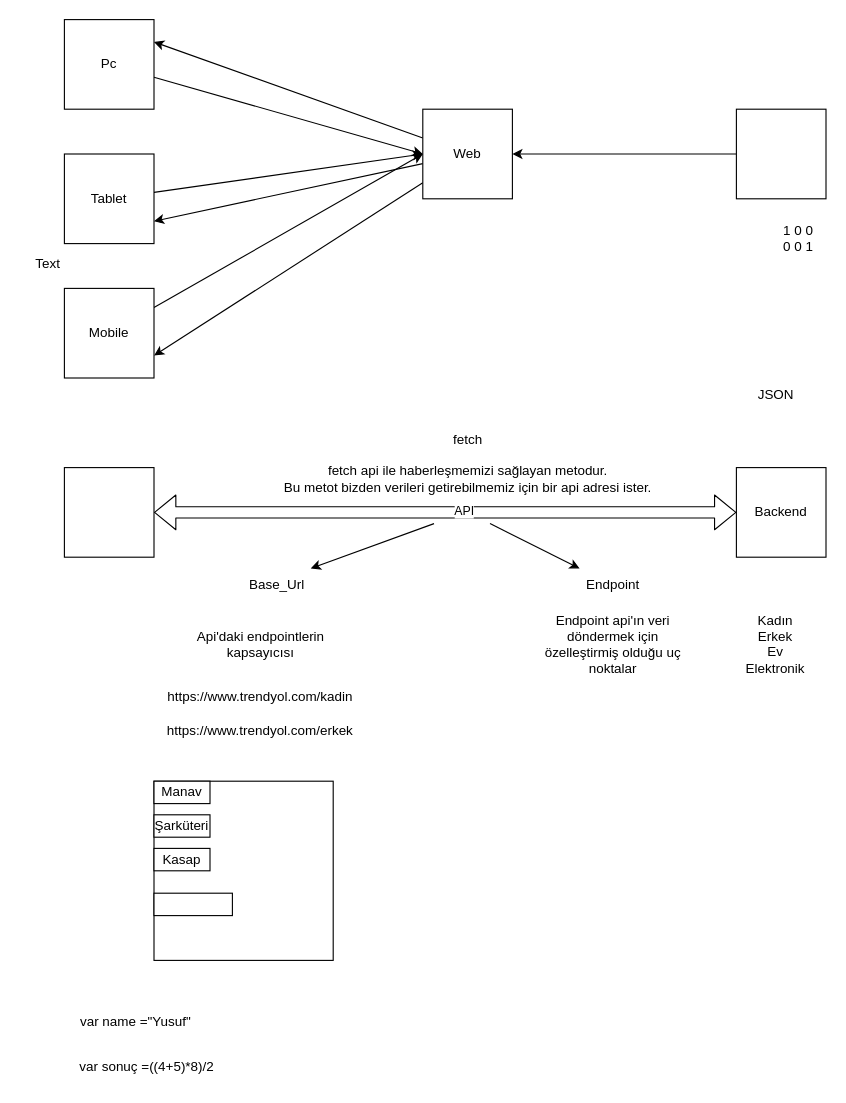
Image size: 846x1103. Some labels were removed from this diagram. Here are the shapes that lost their labels. From the top down, the box of each, then its label:
(735, 108, 826, 199): Server
(63, 466, 154, 557): Frontend
(153, 892, 232, 916): Paketli Gıda
